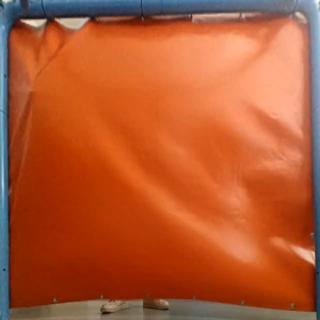Hit-hRxx: (26, 85, 40, 103)
